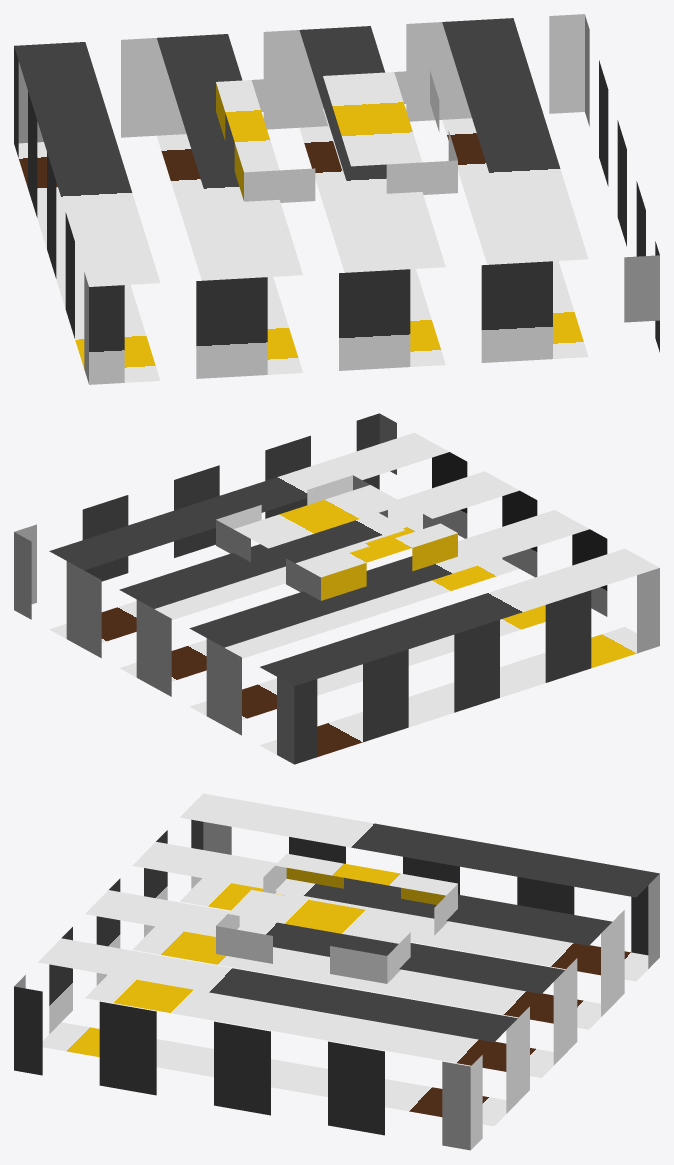
Rendered from anti_tank.obj.
3 renders of one model, top to bottom at view 1: azimuth 30°, elevation 25°; view 2: azimuth 150°, elevation 25°; view 3: azimuth 270°, elevation 25°, orthographic. The views are drawn at different scales.
Parts seen in each view (by area): view 1: mesh; view 2: mesh; view 3: mesh.
Part boxes in pixels (box(x1,y1,x2,y2)): mesh: box(14, 14, 659, 384); mesh: box(14, 413, 659, 764); mesh: box(14, 793, 659, 1150).
Bounding box in the file's own units: 1.31 × 0.2438 × 1.31.
